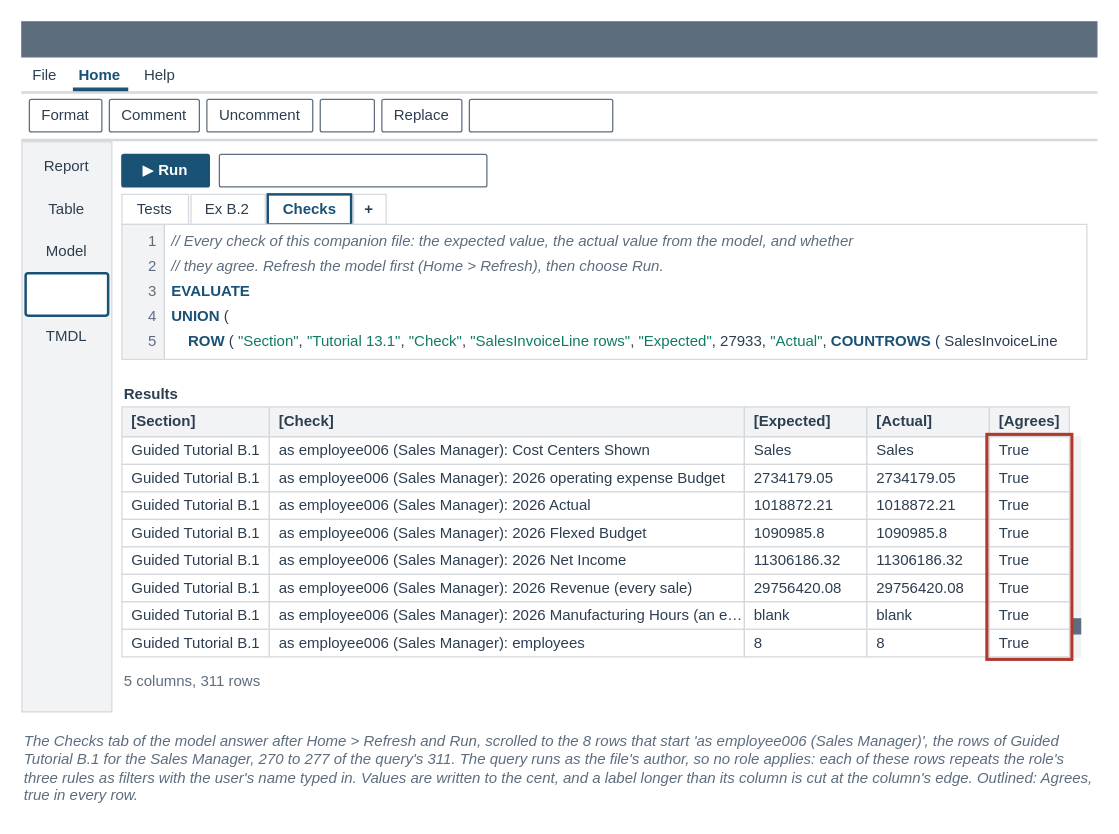
Some shapes in this 1119 by 834 pixel diagram are drawn without their labels. The shapes that lost their labels are listed below. From the top down, each one's centre as x and y in pixels, then its label:
the point at 559,39: Appendix B Exercises - Solutions - Power BI Desktop
the point at 346,115: Find
the point at 540,115: Command palette
the point at 352,170: Update model with changes (0)
the point at 66,293: DAX query
